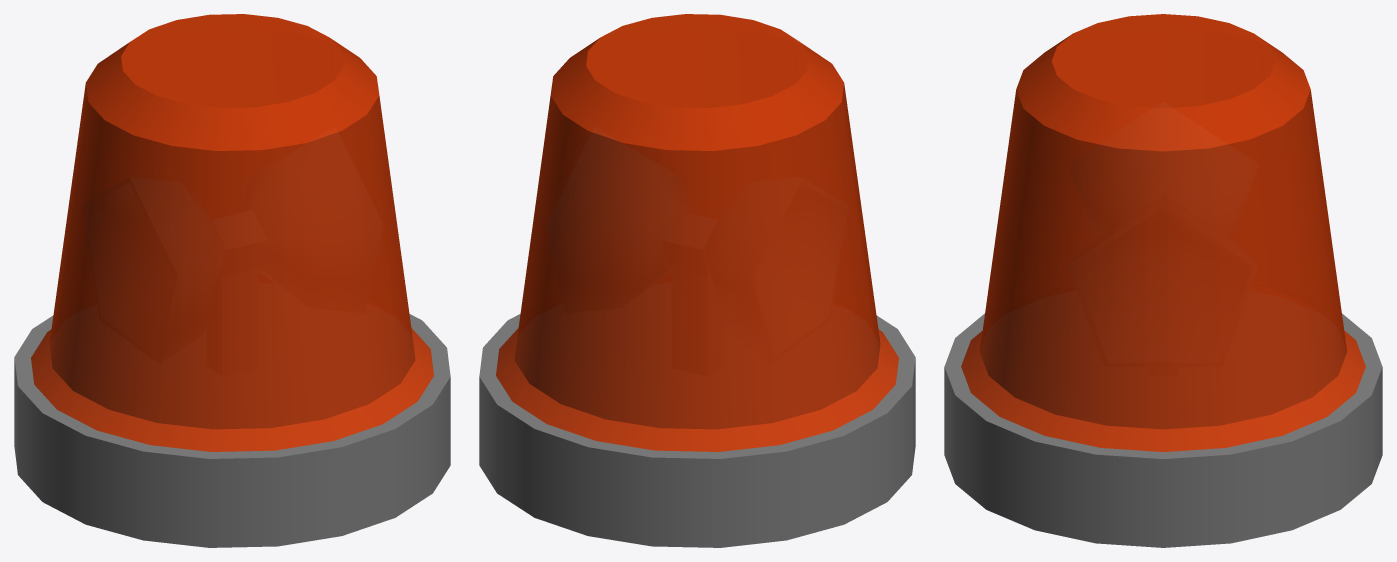
The model's file is Saftblandare_Mesh.fbx.
The picture shows the model from 3 angles, left to right: view 1: azimuth 30°, elevation 25°; view 2: azimuth 150°, elevation 25°; view 3: azimuth 270°, elevation 25°; orthographic projection.
Parts seen in each view (by area): view 1: Saftblandare_Mesh; view 2: Saftblandare_Mesh; view 3: Saftblandare_Mesh.
Part boxes in pixels (bbox=[...]): Saftblandare_Mesh: bbox=[14, 14, 450, 547]; Saftblandare_Mesh: bbox=[479, 14, 915, 547]; Saftblandare_Mesh: bbox=[944, 14, 1382, 547].
Size of the model in its own units: 41.4 by 41.1 by 41.4.
